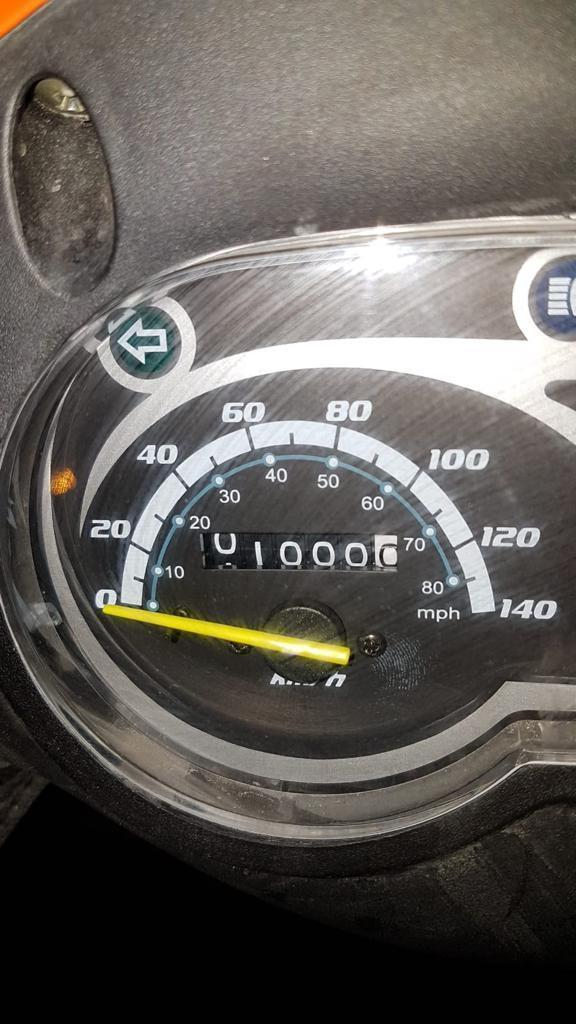0: (278, 536, 304, 572), (212, 529, 239, 560), (312, 538, 336, 570), (344, 539, 369, 569), (376, 540, 399, 572)
1: (248, 534, 267, 566)
odometer: (198, 528, 403, 579)
